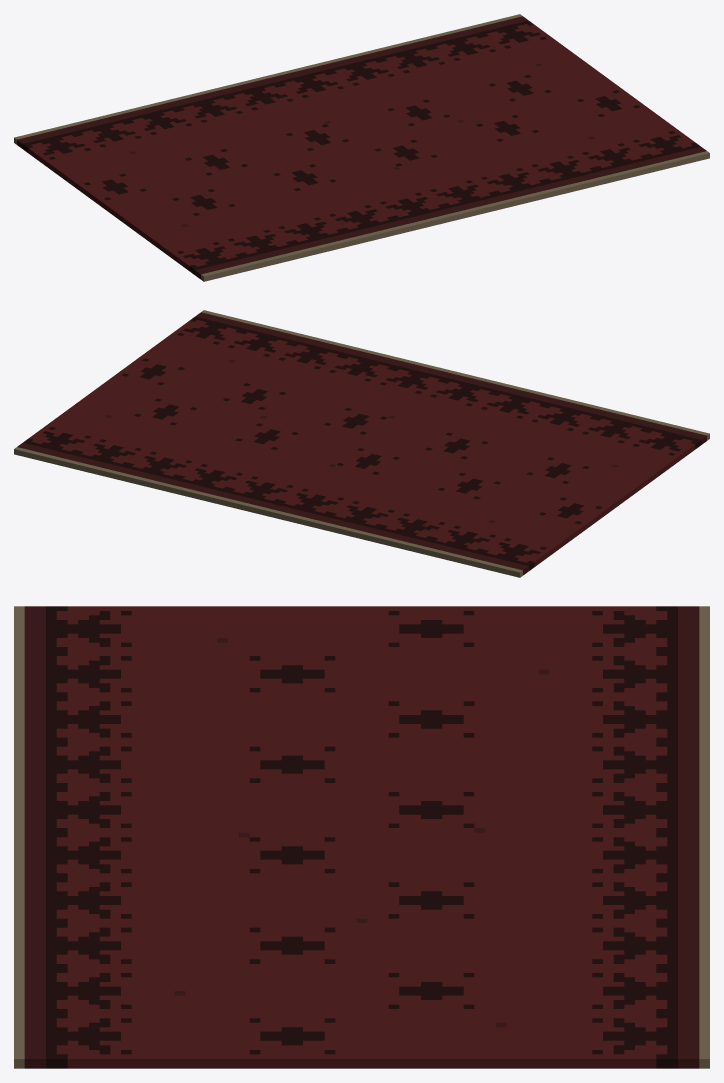
Rendered from GGJ floor 02.2.obj.
3 views of the same model, one above another, from view 1: azimuth 30°, elevation 25°; view 2: azimuth 150°, elevation 25°; view 3: azimuth 270°, elevation 25° (orthographic). The views are drawn at different scales.
Bounding box in the file's own units: 10 × 0.1 × 6.5.
Materials: 1 (1 with a texture image).
